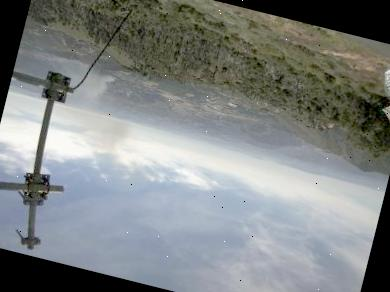smoke: (49, 60, 142, 162)
